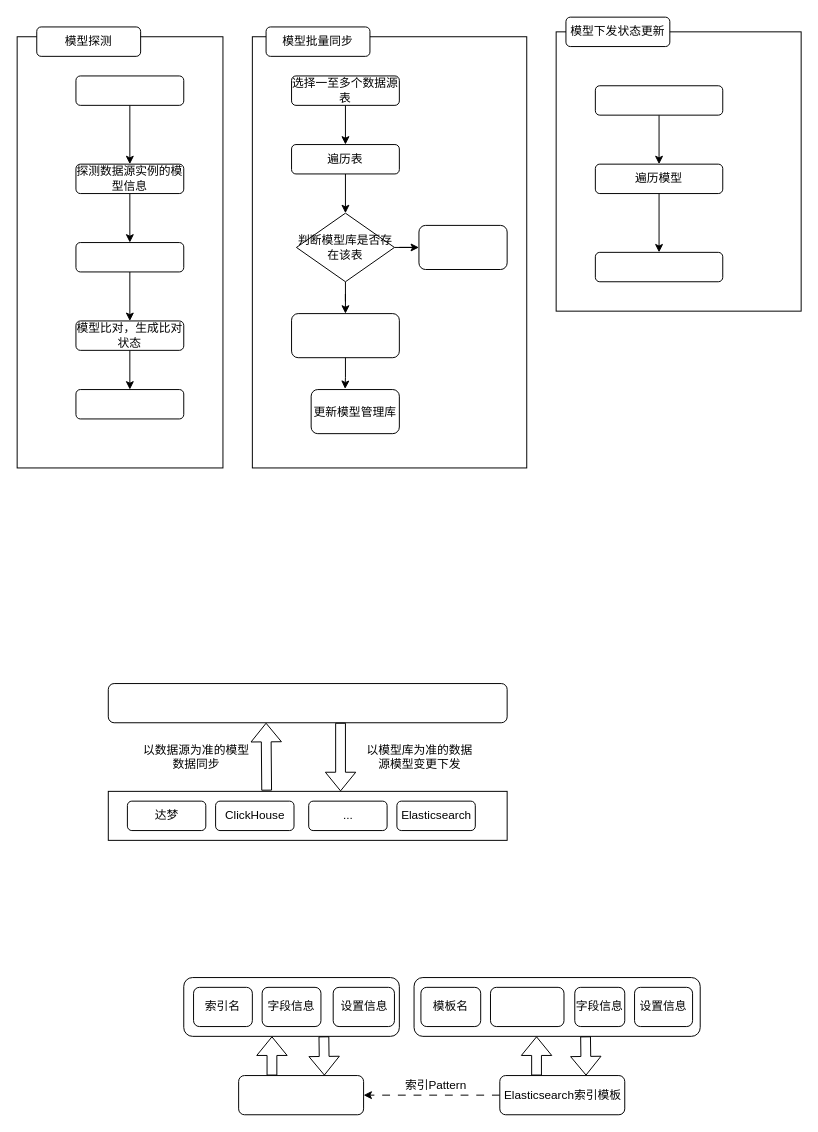
Some shapes in this 818 by 1132 pixel diagram are drawn without their labels. Here are the shapes that lost their labels. From the top down, the centre of each, then its label:
At (x=129, y=90): "配置探测条件".
At (x=658, y=100): "选择模型库存在但是比对结果不一致的模型".
At (x=129, y=257): "查询模型管理库模型信息".
At (x=462, y=247): "删除模型库的模型相关信息".
At (x=658, y=266): "更新模型的状态为不一致".
At (x=345, y=335): "解析数据源表的名称、字段等信息".
At (x=129, y=404): "根据比对结果，页面展示".
At (x=307, y=703): "模型管理库".
At (x=527, y=1006): "索引Patrern".
At (x=301, y=1095): "Elasticsearch索引".
